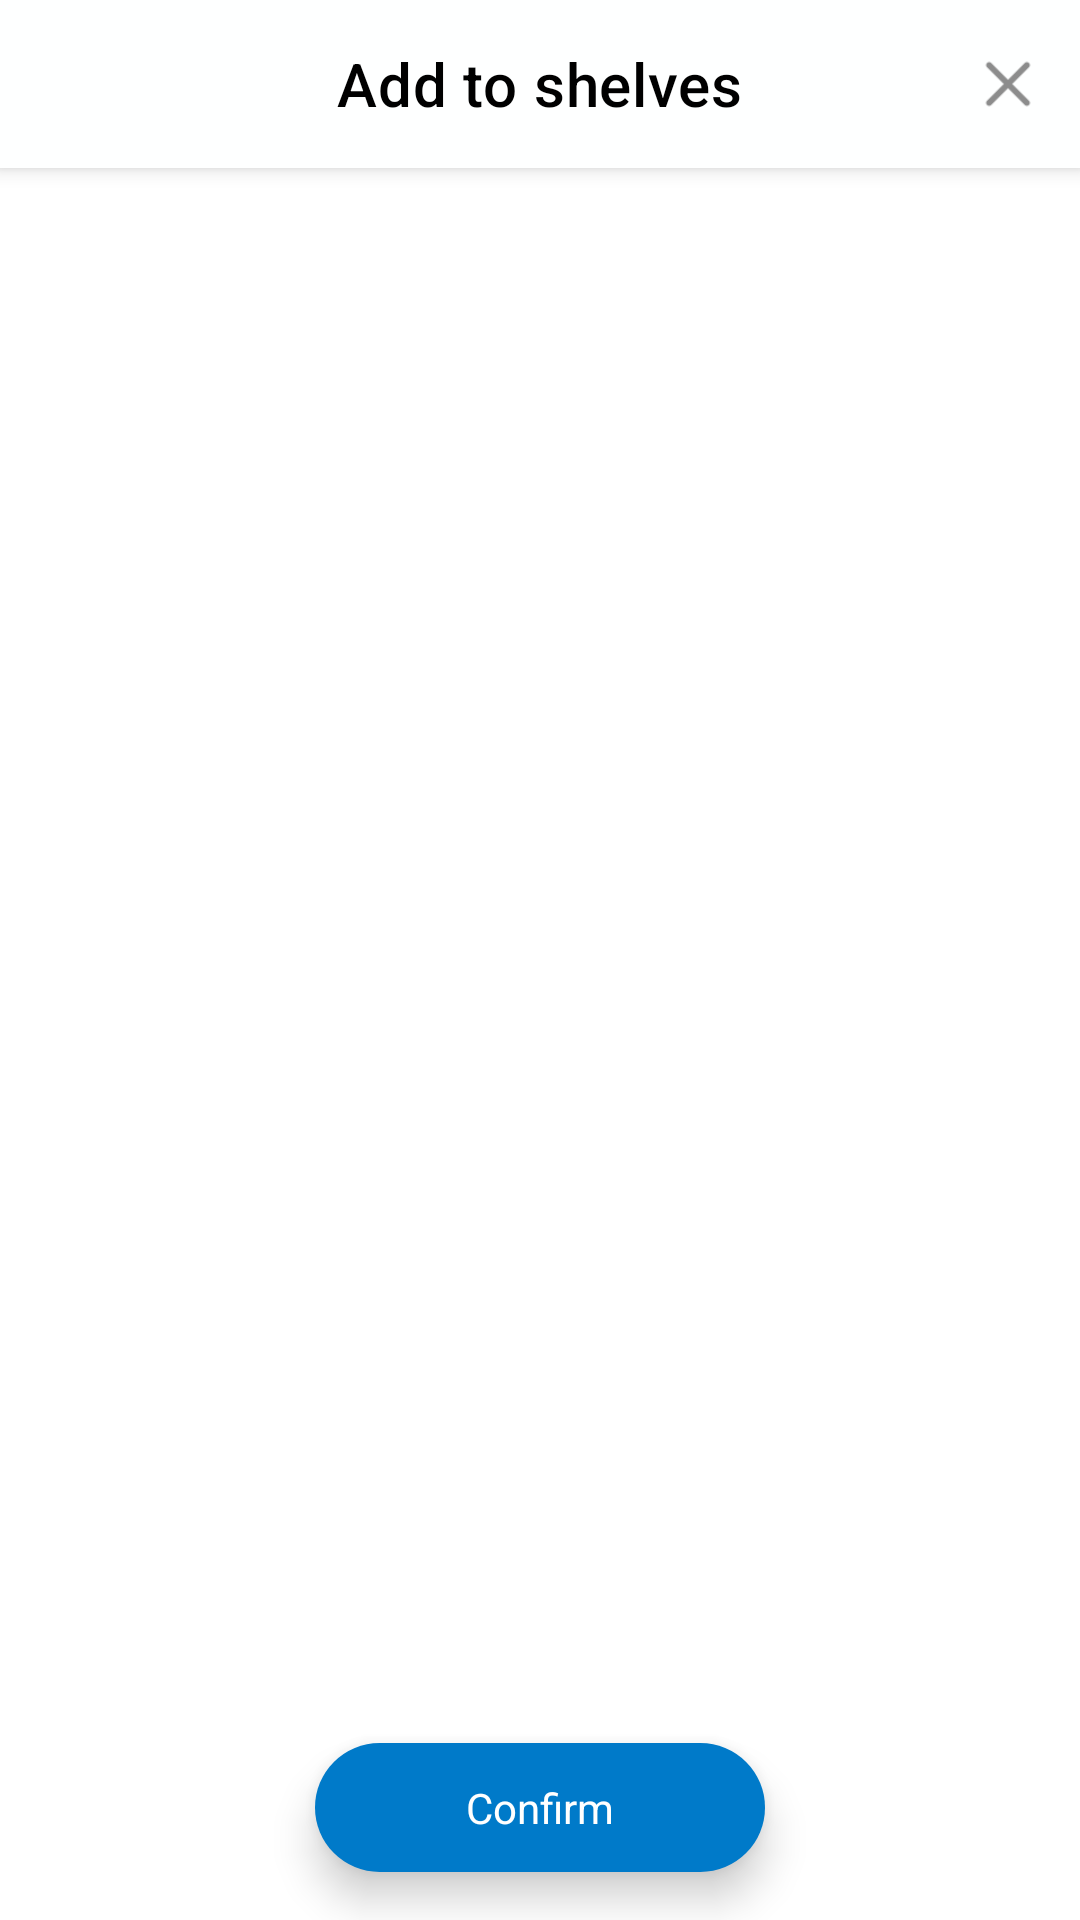

Named icons in this screenshot (1080 × 1920) and their centers, [x,y]:
close: [1008,84]
